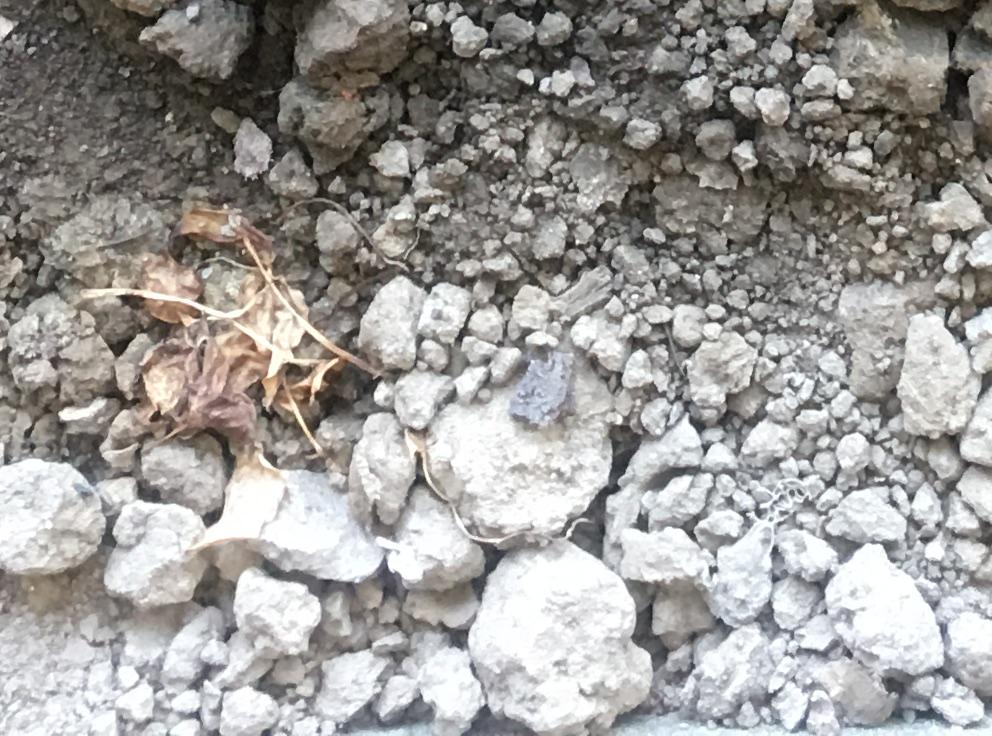block: (469, 545, 663, 736), (421, 362, 610, 536), (822, 542, 951, 680), (250, 463, 385, 589), (834, 8, 954, 123), (1, 464, 103, 577), (900, 307, 981, 442), (107, 496, 200, 610)
